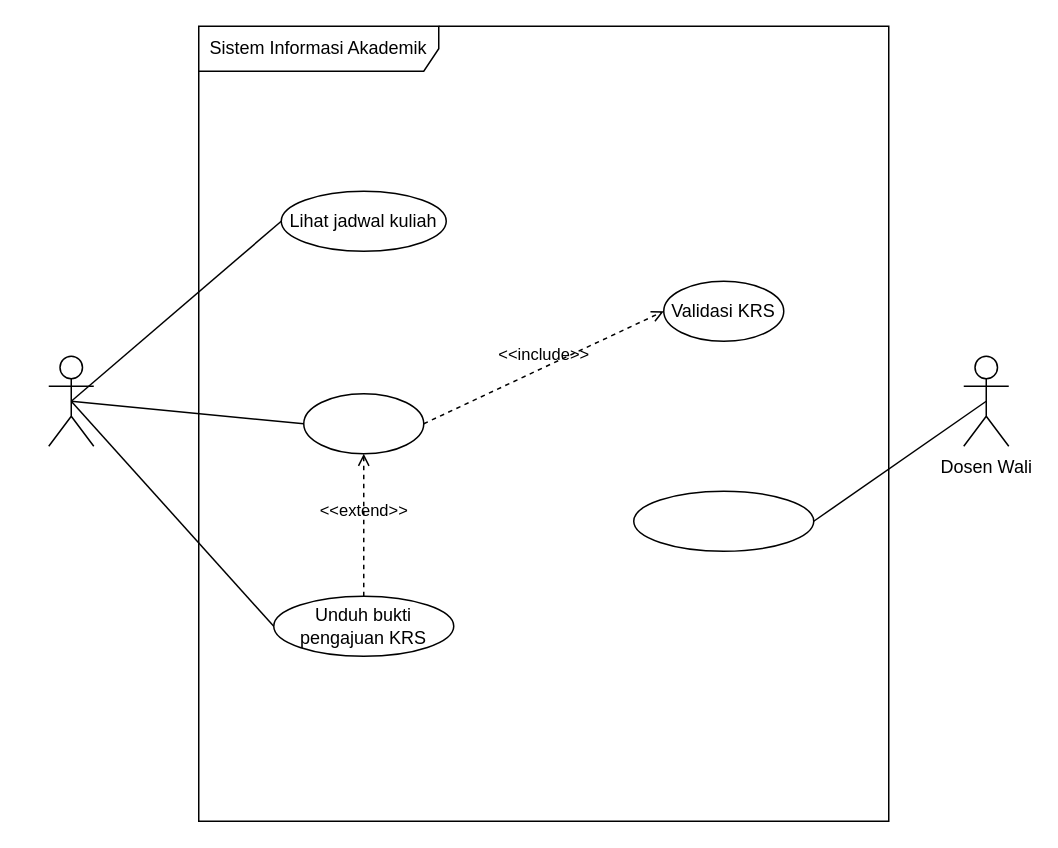
The diagram is 1058 pixels wide and 848 high, and some of its shapes have lost their labels. The centre of each missing label's shape, as x and y in pixels:
"Ajukan KRS" belongs at point 363,423.
"Mahasiswa" belongs at point 70,400.
"Proses keputusan KRS" belongs at point 723,520.
